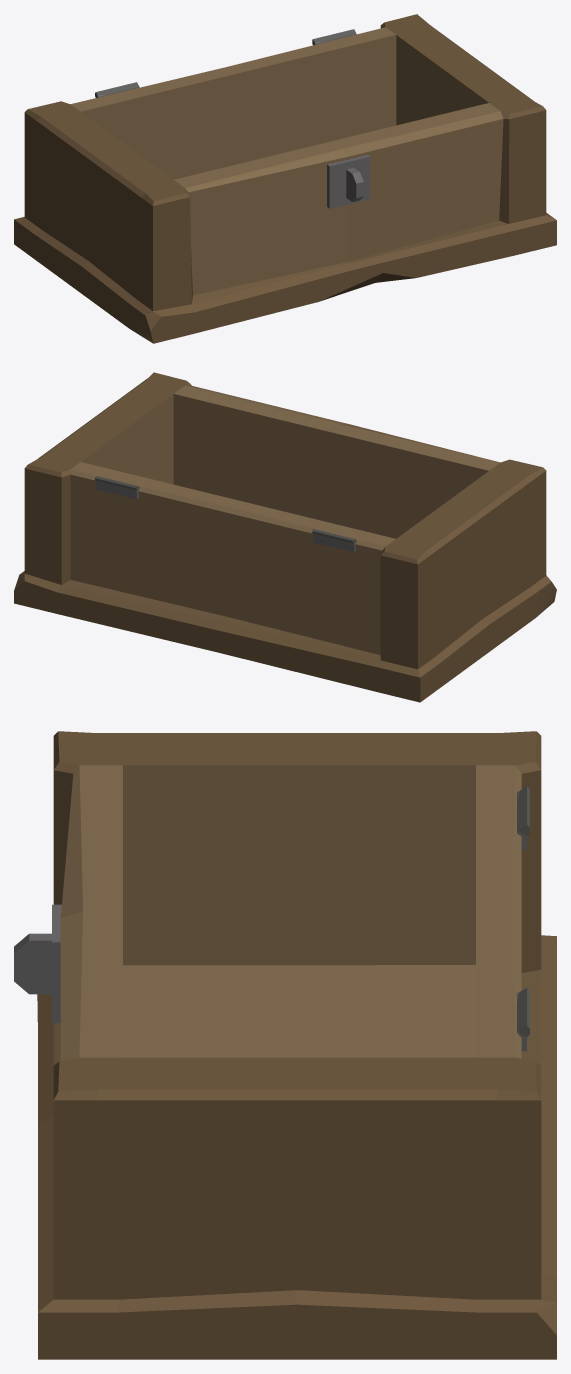
The model's file is kingdom_SM_Prop_Chest_01.gltf.
The picture shows the model from 3 angles, top to bottom: view 1: azimuth 30°, elevation 25°; view 2: azimuth 150°, elevation 25°; view 3: azimuth 270°, elevation 25°; orthographic projection. The views are drawn at different scales.
Visible parts, largest first — view 1: SM_Prop_Chest_01; view 2: SM_Prop_Chest_01; view 3: SM_Prop_Chest_01.
Boxes of the visible parts, x1,y1,x2,y2 form: SM_Prop_Chest_01: [14, 14, 556, 343]; SM_Prop_Chest_01: [14, 372, 556, 702]; SM_Prop_Chest_01: [14, 731, 556, 1359].
Size of the model in its own units: 1 by 0.3291 by 0.6098.
1 material, 1 textured.
